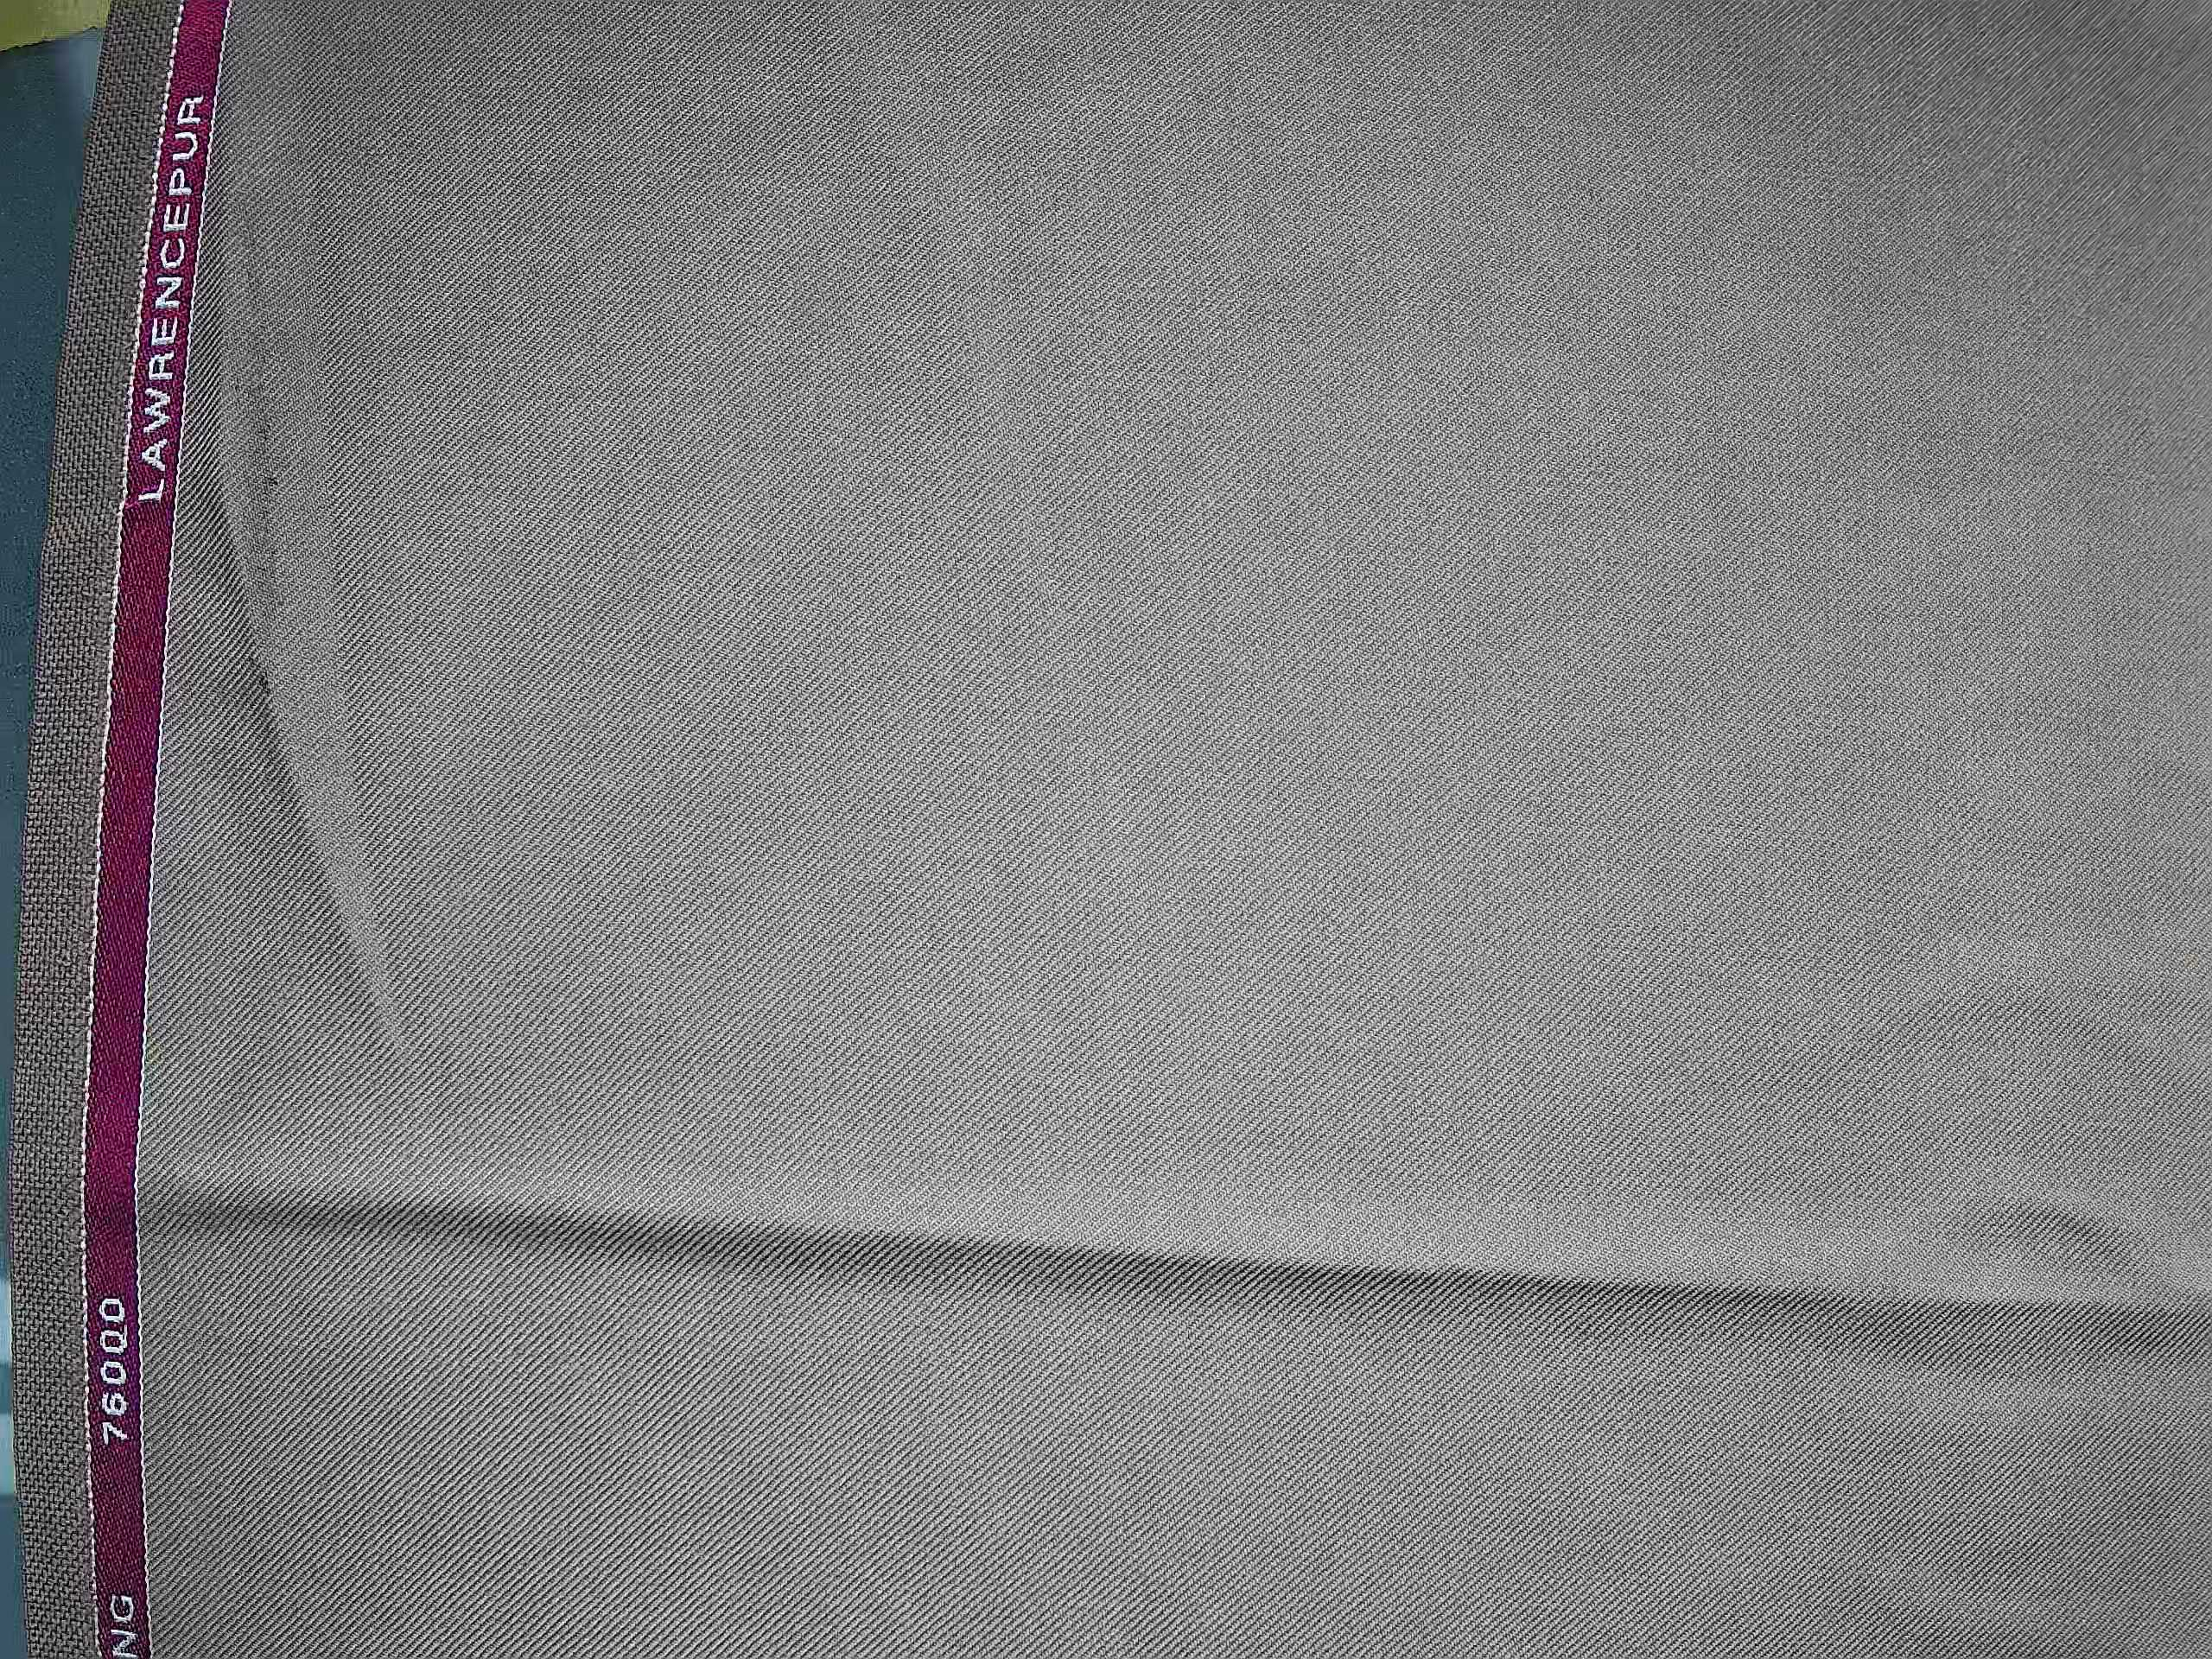stains: (196, 988, 318, 1150), (225, 636, 302, 723)
